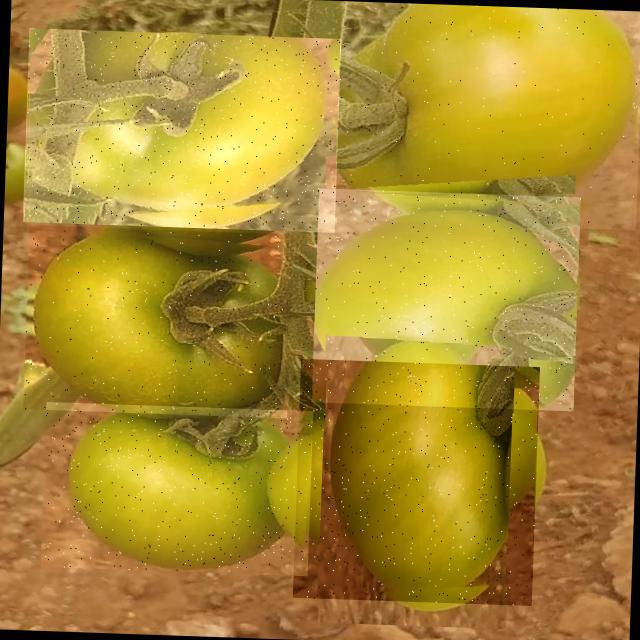Unripe Tomato: (333, 0, 640, 229), (22, 28, 341, 232), (292, 358, 540, 606), (312, 188, 580, 411), (23, 225, 293, 418), (40, 402, 313, 576)
